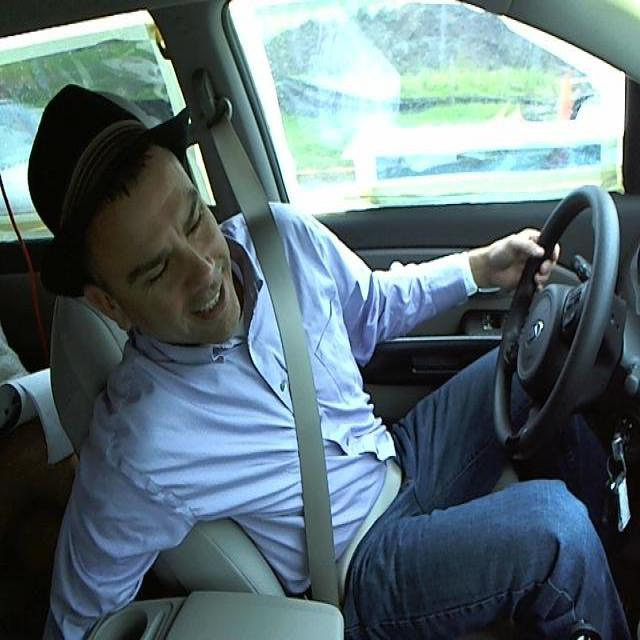seatbelt: (239, 225, 369, 584)
